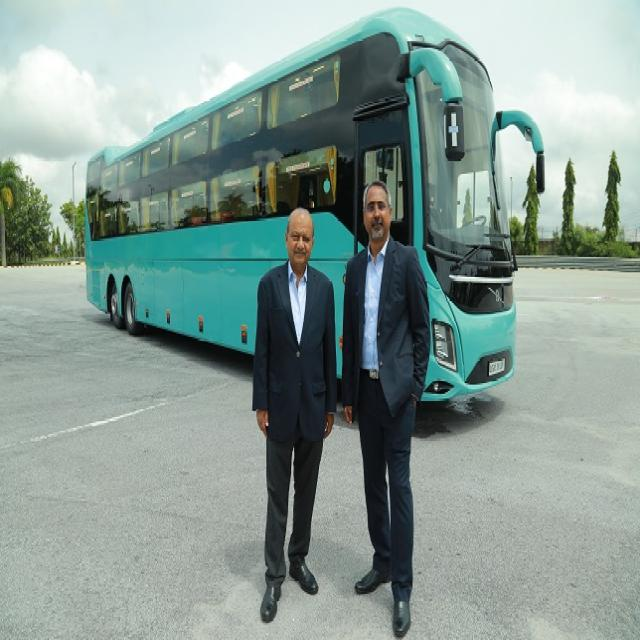bus: (86, 10, 544, 401)
